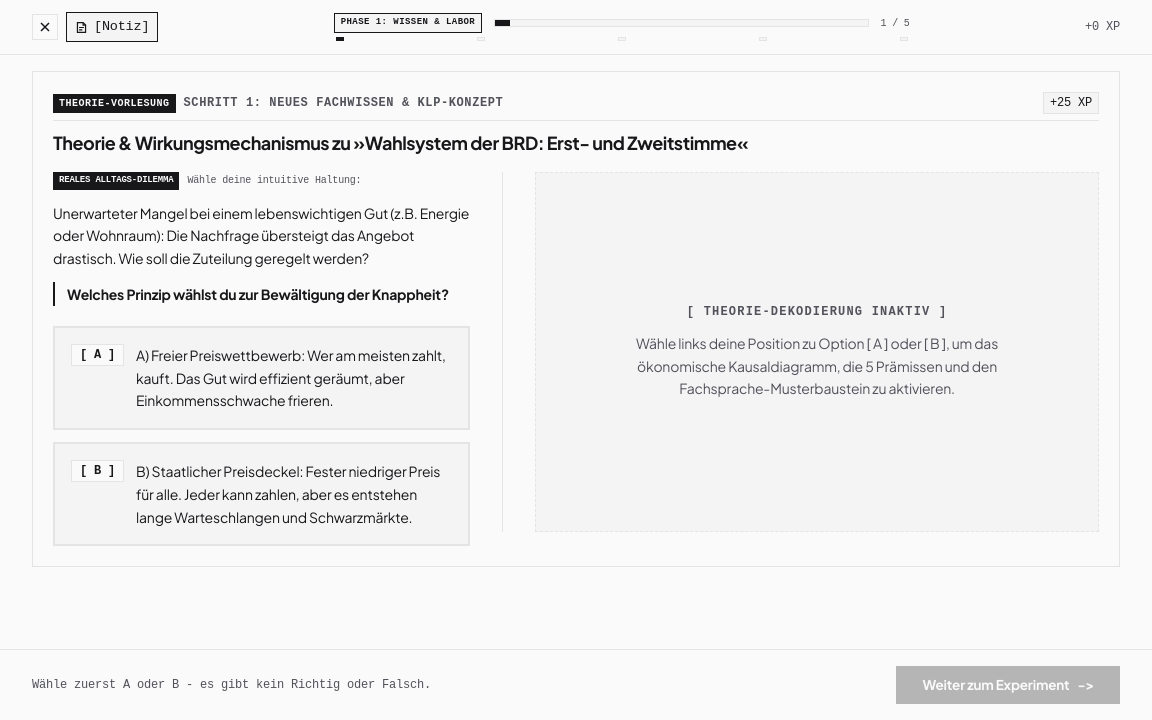
Test: InteractiveLessonRunner Component › opens, displays and closes attached knowledge note drawer
Note: Click [Notiz] button in header
Click the button titled "Wissensnotiz öffnen" at (112, 27), box [66,12,158,42]
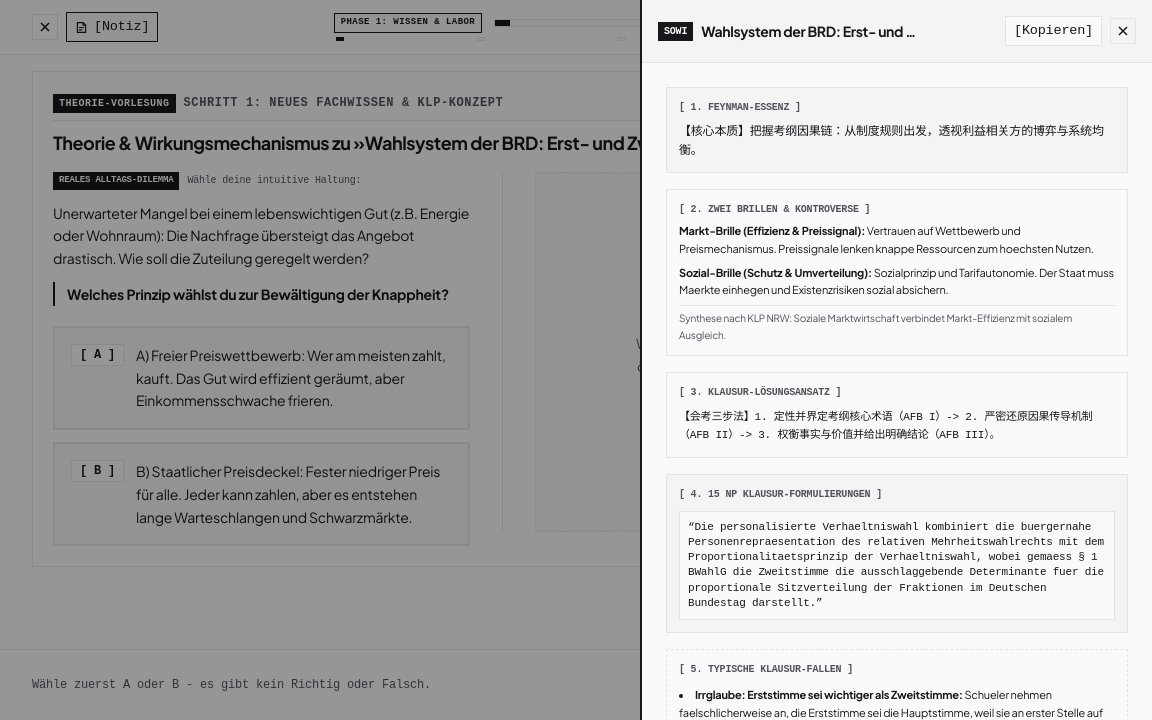
Expected: the text "[ 1. Feynman-Essenz ]" is shown, [679,102,801,113]
Expected: the text "[ 2. Zwei Brillen & Kontroverse ]" is shown, [679,204,870,214]
Expected: the text "[ 3. Klausur-Lösungsansatz ]" is shown, [679,387,841,398]
Note: Test clipboard copy
Click the button "[Kopieren]" at (1054, 31), box [1005,16,1102,46]
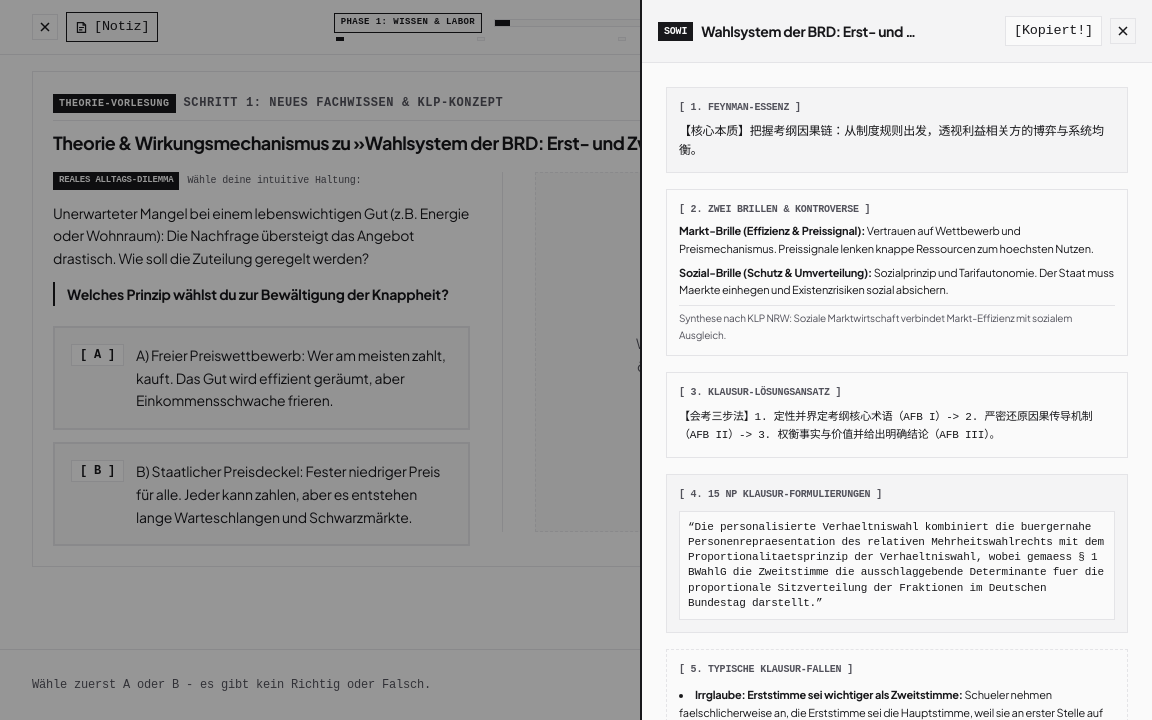
Expected: the button "[Kopiert!]" is shown, [1005,16,1102,46]
Note: Close note drawer
Click the button titled "Schließen" at (1123, 31), box [1110,18,1136,44]
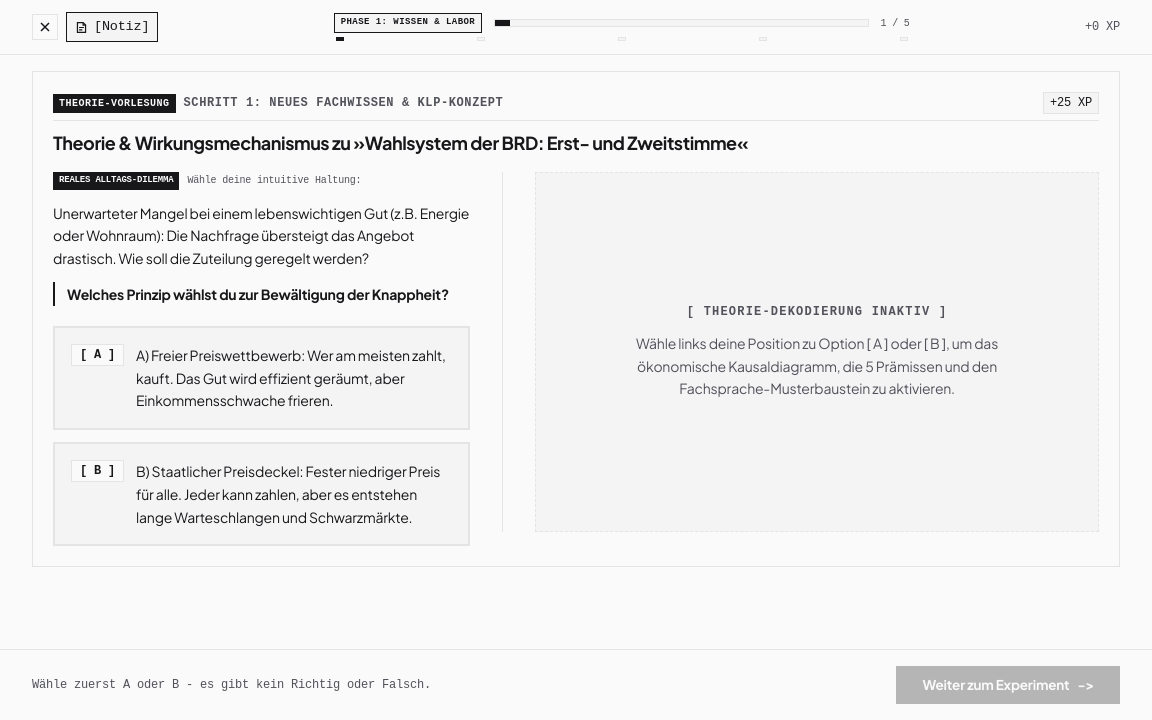
Expected: the text "1. Feynman-Essenz" is gone
